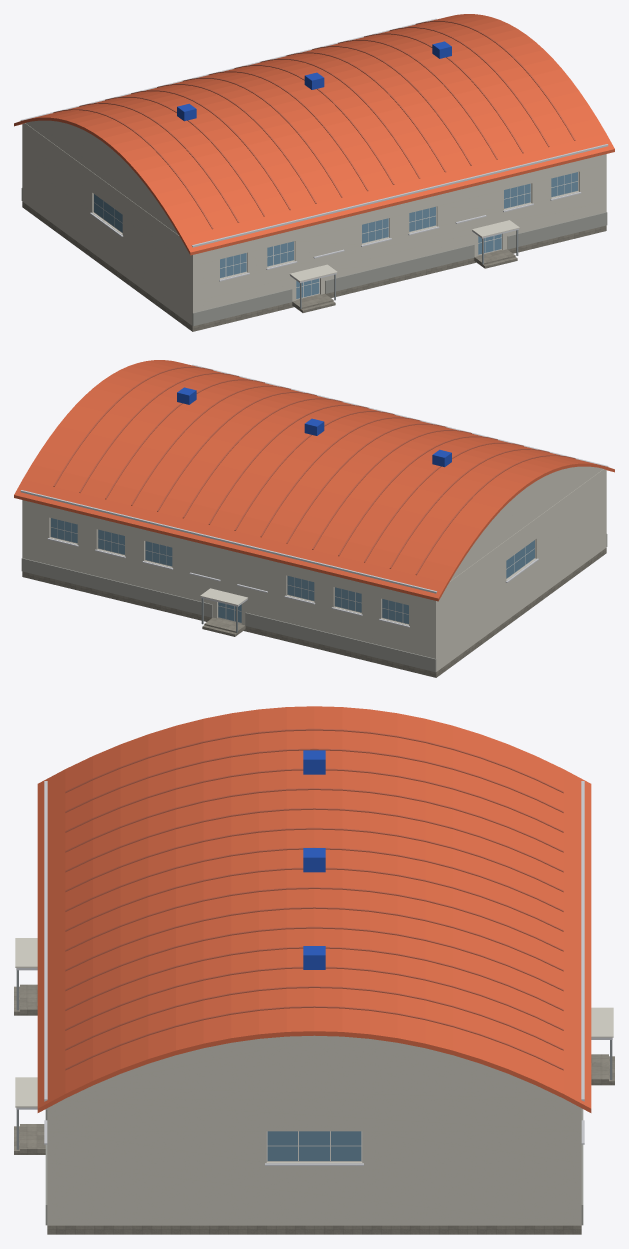
3 views of the same model, one above another, from view 1: azimuth 30°, elevation 25°; view 2: azimuth 150°, elevation 25°; view 3: azimuth 270°, elevation 25° (orthographic). The views are drawn at different scales.
Parts seen in each view (by area): view 1: gym__orangeroof, gym__cream, gym__rib, gym__concrete, gym__glass, gym__stone, gym__white, gym__frame, gym__cap, gym__vent, gym__sideglass; view 2: gym__orangeroof, gym__cream, gym__rib, gym__concrete, gym__glass, gym__stone, gym__white, gym__frame, gym__vent, gym__sideglass, gym__cap; view 3: gym__orangeroof, gym__cream, gym__rib, gym__stone, gym__white, gym__sideglass, gym__cap, gym__vent.
Part boxes in pixels (x1,y1,x2,y2): gym__orangeroof: [14, 14, 614, 255]; gym__cream: [22, 120, 606, 325]; gym__rib: [53, 20, 575, 229]; gym__concrete: [21, 188, 607, 326]; gym__glass: [220, 172, 577, 298]; gym__stone: [22, 202, 606, 331]; gym__white: [20, 18, 608, 282]; gym__frame: [93, 172, 578, 299]; gym__cap: [289, 220, 519, 281]; gym__vent: [177, 41, 451, 121]; gym__sideglass: [94, 194, 122, 232]; gym__orangeroof: [14, 360, 614, 601]; gym__cream: [22, 466, 606, 671]; gym__rib: [53, 366, 575, 575]; gym__concrete: [21, 534, 607, 672]; gym__glass: [51, 518, 408, 623]; gym__stone: [22, 548, 606, 677]; gym__white: [20, 364, 608, 627]; gym__frame: [50, 518, 535, 624]; gym__vent: [177, 387, 451, 467]; gym__sideglass: [506, 540, 534, 578]; gym__cap: [200, 588, 247, 605]; gym__orangeroof: [37, 706, 591, 1112]; gym__cream: [47, 1035, 581, 1225]; gym__rib: [65, 728, 563, 1070]; gym__stone: [47, 1225, 581, 1234]; gym__white: [16, 781, 612, 1165]; gym__sideglass: [267, 1131, 361, 1160]; gym__cap: [15, 938, 613, 1107]; gym__vent: [303, 750, 325, 969].
Bounding box in the file's own units: 48.2 × 15.46 × 37.68.
Materials: 12 (3 with a texture image).
